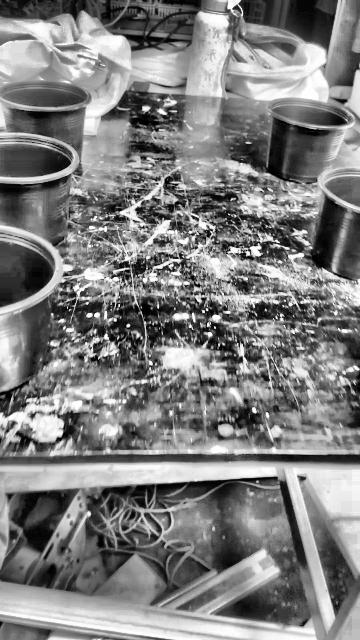pot: (0, 226, 63, 393), (0, 133, 79, 245), (0, 81, 90, 170), (267, 98, 354, 183), (311, 167, 360, 282)
